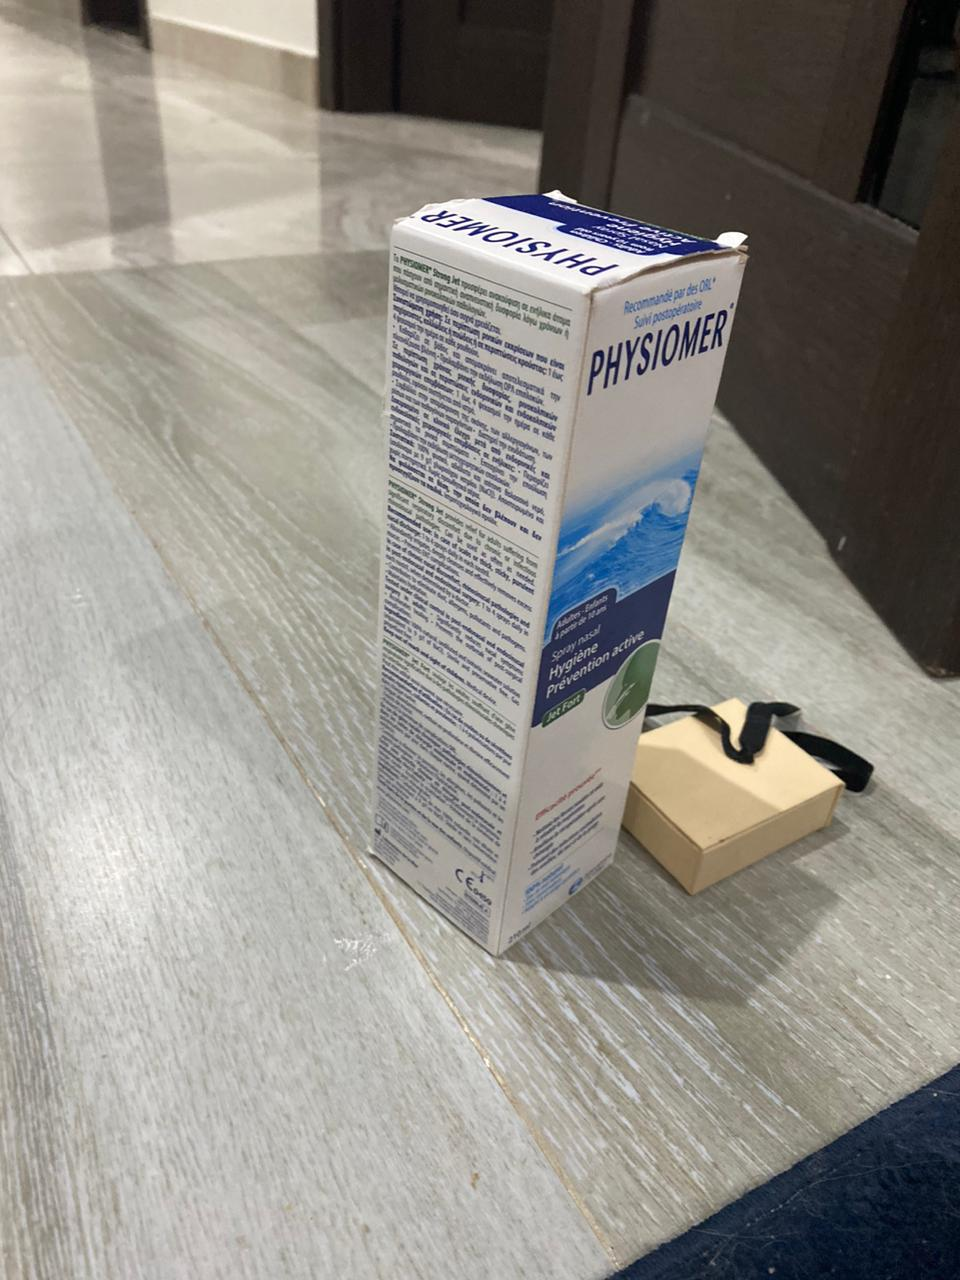Physiomer: (372, 175, 751, 955)
Yellow Box: (631, 694, 847, 909)
